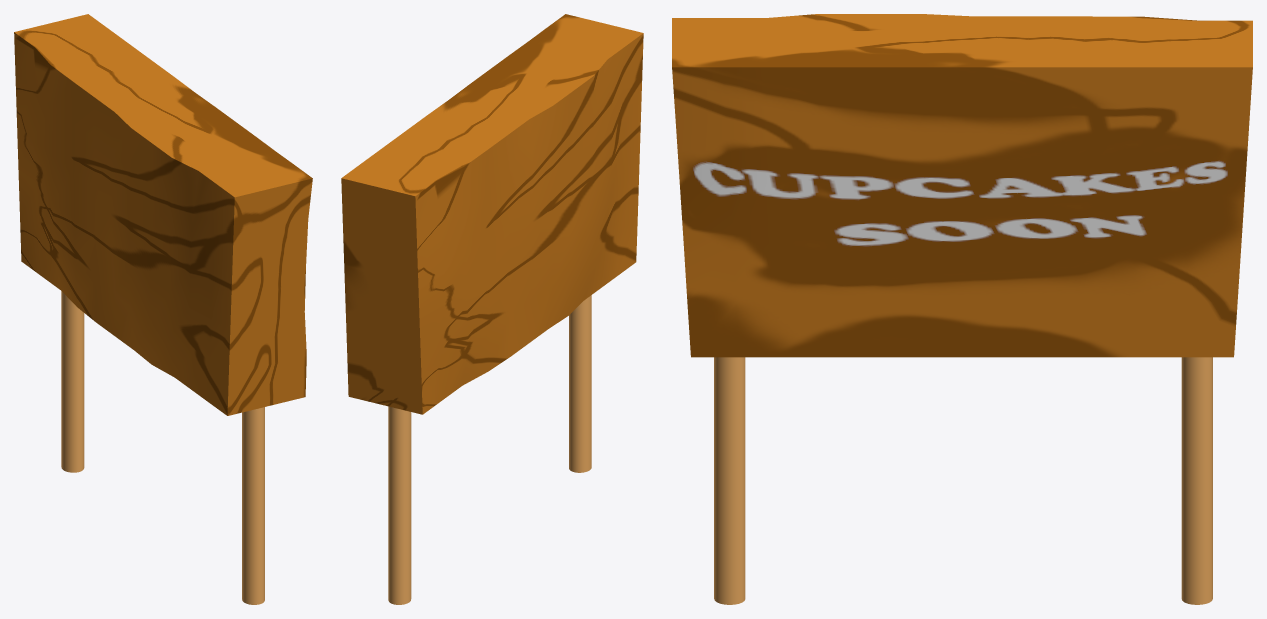
The model's file is dalgano board.fbx.
The picture shows the model from 3 angles, left to right: view 1: azimuth 30°, elevation 25°; view 2: azimuth 150°, elevation 25°; view 3: azimuth 270°, elevation 25°; orthographic projection. The views are drawn at different scales.
Visible parts, largest first — view 1: pCylinder3; view 2: pCylinder3; view 3: pCylinder3.
Part boxes in pixels (x1,y1,x2,y2): pCylinder3: [14, 14, 312, 604]; pCylinder3: [341, 14, 643, 604]; pCylinder3: [672, 14, 1252, 604].
Size of the model in its own units: 2.33 by 11.25 by 10.68.
Materials: 1 (1 with a texture image).
